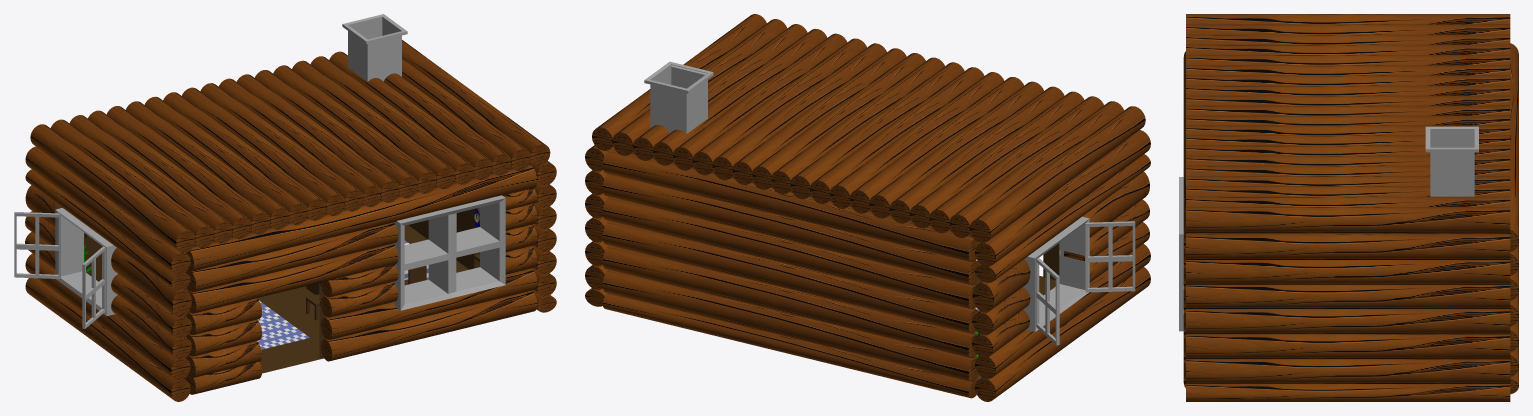
The model's file is new grandmothers house.fbx.
The picture shows the model from 3 angles, left to right: view 1: azimuth 30°, elevation 25°; view 2: azimuth 150°, elevation 25°; view 3: azimuth 270°, elevation 25°; orthographic projection. The views are drawn at different scales.
Parts seen in each view (by area): view 1: pCube11, pCylinder7, pCylinder1, pCylinder64, pCylinder9, pCylinder8, pCylinder32, pCylinder2, pCylinder33, pPlane1, pCube10, pCylinder59 (+40 smaller); view 2: pCylinder20, pCylinder19, pCylinder18, pCylinder21, pCylinder16, pCylinder17, pCylinder22, pCylinder64, pCylinder32, pCylinder33, pCube10, pCylinder59 (+29 smaller); view 3: pCylinder23, pCylinder45, pCylinder27, pCylinder26, pCylinder28, pCylinder24, pCylinder25, pCylinder29, pCylinder58, pCylinder63, pCylinder46, pCylinder55 (+19 smaller).
Boxes of the visible parts, left/top/right/bottom form: pCube11: left=392, top=195, right=505, bottom=310; pCylinder7: left=185, top=165, right=537, bottom=271; pCylinder1: left=320, top=290, right=537, bottom=361; pCylinder64: left=30, top=124, right=195, bottom=252; pCylinder9: left=188, top=243, right=398, bottom=313; pCylinder8: left=185, top=222, right=398, bottom=292; pCylinder32: left=25, top=146, right=190, bottom=274; pCylinder2: left=320, top=268, right=537, bottom=339; pCylinder33: left=25, top=278, right=190, bottom=401; pPlane1: left=257, top=225, right=468, bottom=373; pCube10: left=342, top=14, right=407, bottom=81; pCylinder59: left=126, top=101, right=289, bottom=229; pCylinder20: left=602, top=245, right=977, bottom=358; pCylinder19: left=602, top=221, right=979, bottom=333; pCylinder18: left=602, top=196, right=976, bottom=309; pCylinder21: left=602, top=270, right=978, bottom=381; pCylinder16: left=602, top=148, right=979, bottom=262; pCylinder17: left=602, top=173, right=979, bottom=285; pCylinder22: left=602, top=293, right=977, bottom=398; pCylinder64: left=969, top=106, right=1145, bottom=242; pCylinder32: left=975, top=130, right=1150, bottom=266; pCylinder33: left=975, top=267, right=1150, bottom=401; pCube10: left=644, top=61, right=713, bottom=133; pCylinder59: left=869, top=81, right=1043, bottom=218; pCylinder23: left=1186, top=233, right=1510, bottom=259; pCylinder45: left=1186, top=207, right=1510, bottom=233; pCylinder27: left=1186, top=334, right=1510, bottom=359; pCylinder26: left=1186, top=309, right=1510, bottom=334; pCylinder28: left=1186, top=359, right=1510, bottom=383; pCylinder24: left=1186, top=260, right=1510, bottom=284; pCylinder25: left=1186, top=284, right=1510, bottom=308; pCylinder29: left=1186, top=384, right=1510, bottom=401; pCylinder58: left=1186, top=75, right=1510, bottom=85; pCylinder63: left=1186, top=24, right=1510, bottom=34; pCylinder46: left=1186, top=196, right=1510, bottom=206; pCylinder55: left=1186, top=105, right=1510, bottom=115.
Size of the model in its own units: 2950 by 1410 by 1843.
